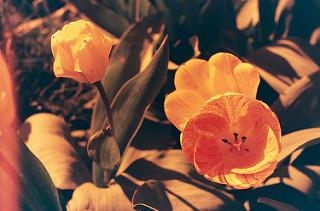tulip: (179, 93, 284, 190), (51, 19, 116, 83)
